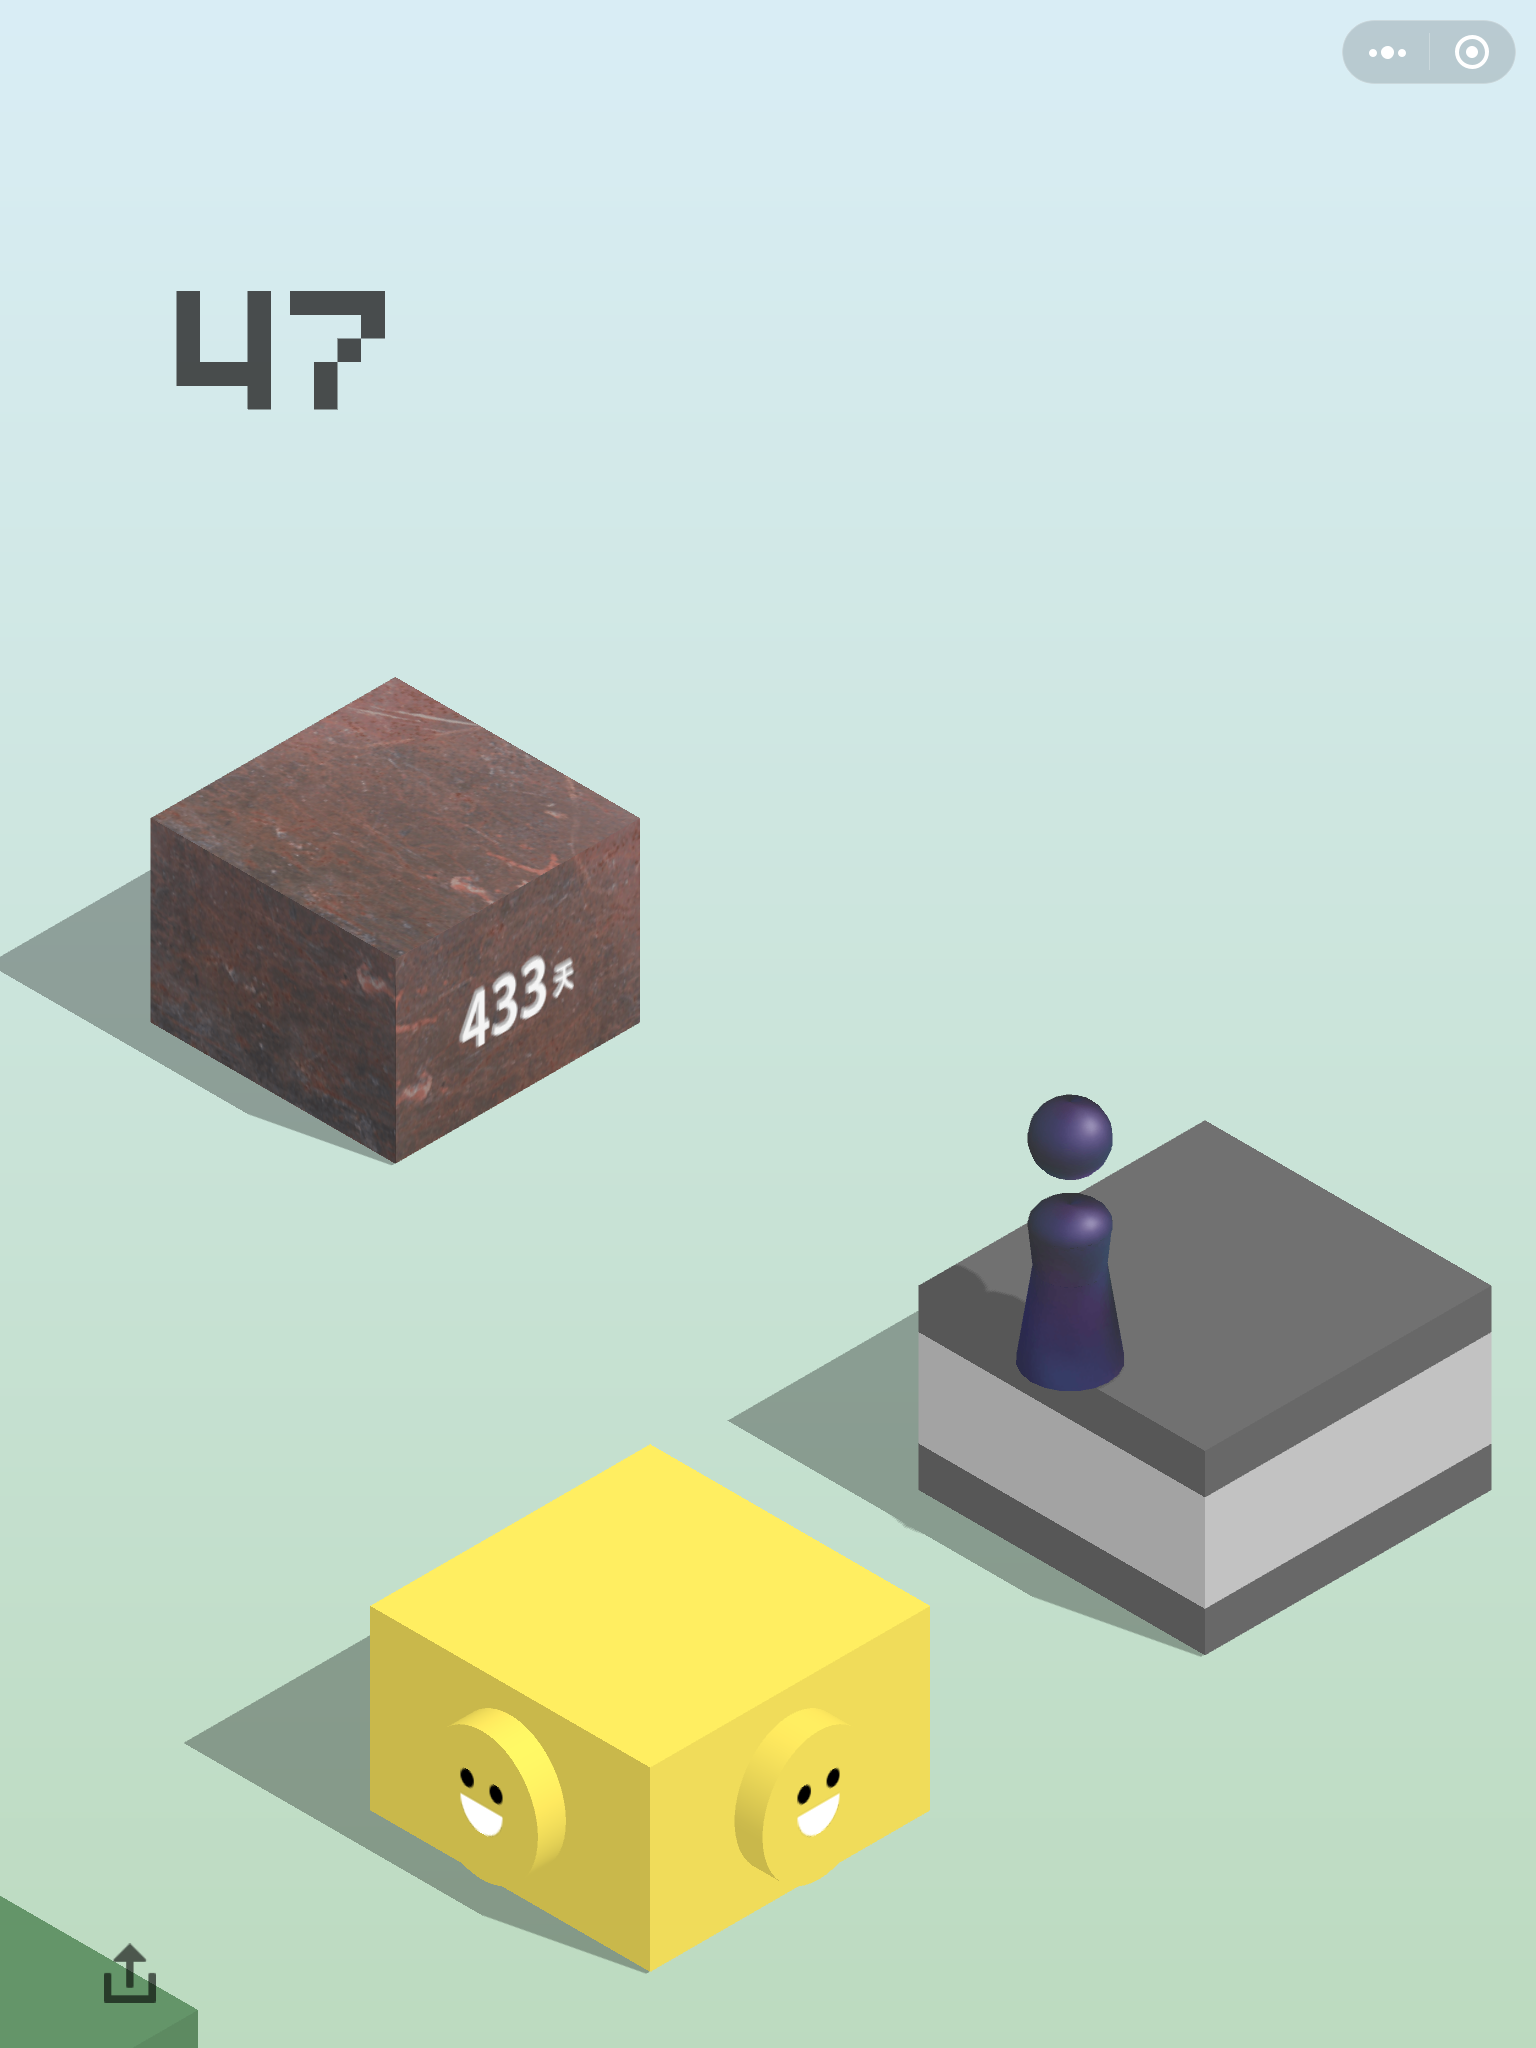f: (904, 1114, 1501, 1661), (366, 1417, 931, 1977), (140, 671, 645, 1169)
r: (1007, 1089, 1134, 1398)
